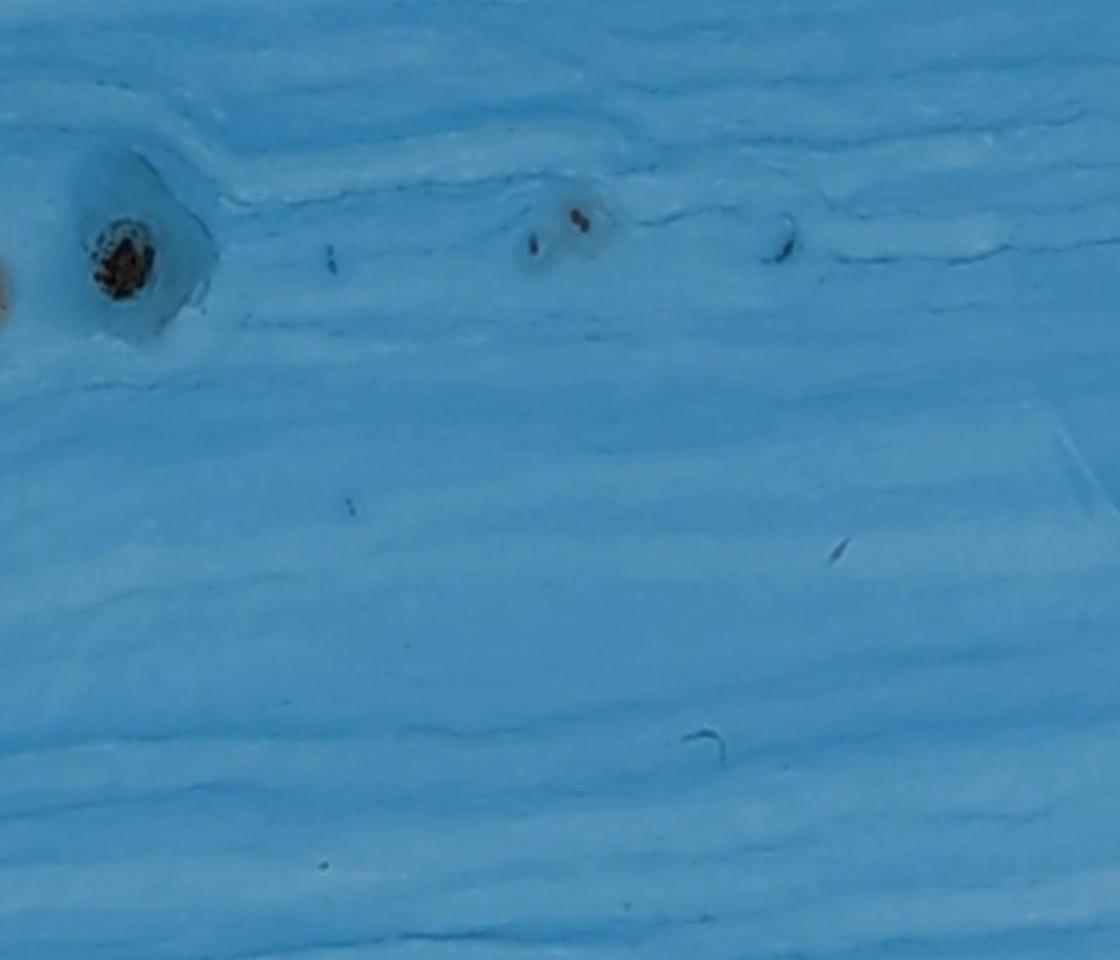rust: (92, 223, 159, 309)
